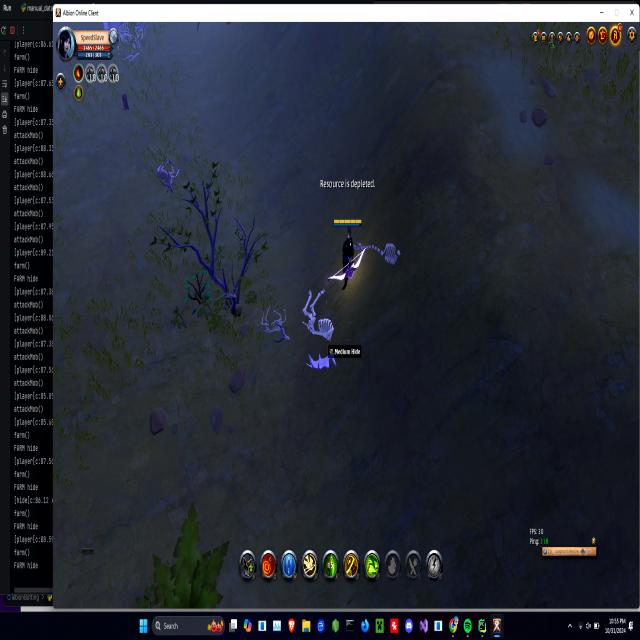red: (332, 214, 364, 290)
